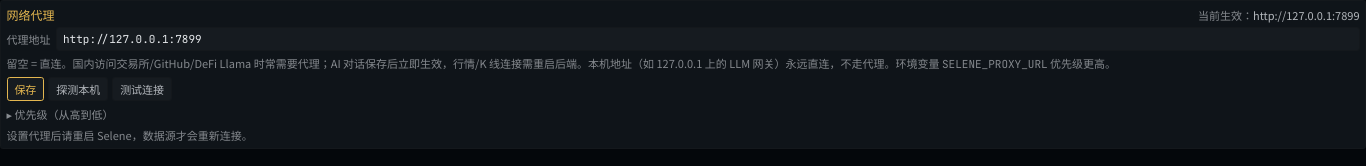
NetworkSettingsPanel › keeps the restart message after saving instead of flashing it
Click the button "保存".
click(25, 89)  # box [6, 77, 44, 101]
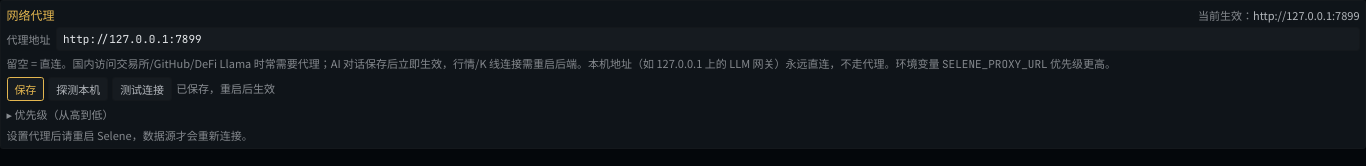
Result: the text "已保存，重启后生效" is shown at [176, 82, 275, 97]
